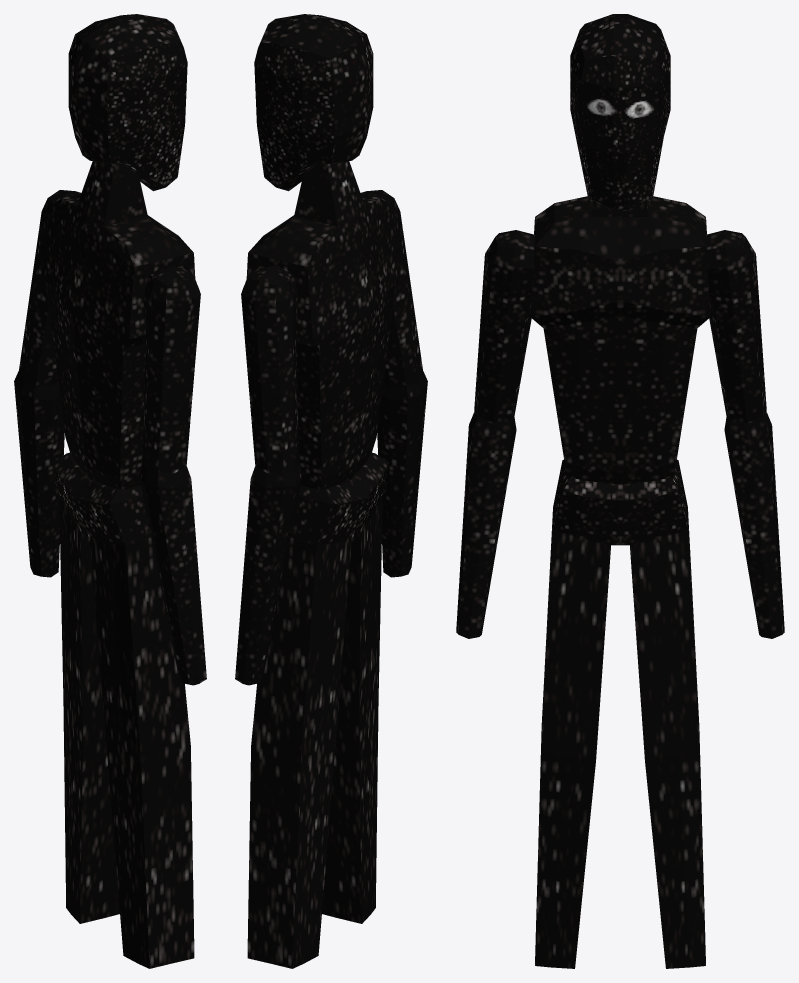
Rendered from watcher_assets.fbx.
3 renders of one model, left to right at view 1: azimuth 30°, elevation 25°; view 2: azimuth 150°, elevation 25°; view 3: azimuth 270°, elevation 25°, orthographic.
Visible parts, largest first — view 1: watcher_legs, watcher_arm, watcher_body, watcher_head; view 2: watcher_legs, watcher_arm, watcher_body, watcher_head; view 3: watcher_legs, watcher_body, watcher_arm, watcher_head.
Part boxes in pixels (bbox=[...]): watcher_legs: bbox=[53, 452, 194, 968]; watcher_arm: bbox=[14, 190, 206, 685]; watcher_body: bbox=[41, 161, 195, 489]; watcher_head: bbox=[68, 14, 187, 191]; watcher_legs: bbox=[247, 452, 388, 968]; watcher_arm: bbox=[235, 190, 427, 685]; watcher_body: bbox=[246, 161, 400, 489]; watcher_head: bbox=[254, 14, 373, 191]; watcher_legs: bbox=[535, 459, 705, 968]; watcher_body: bbox=[531, 196, 709, 484]; watcher_arm: bbox=[456, 230, 784, 638]; watcher_head: bbox=[570, 14, 670, 210].
Bounding box in the file's own units: 93.9 × 759 × 243.
4 materials, 4 textured.
